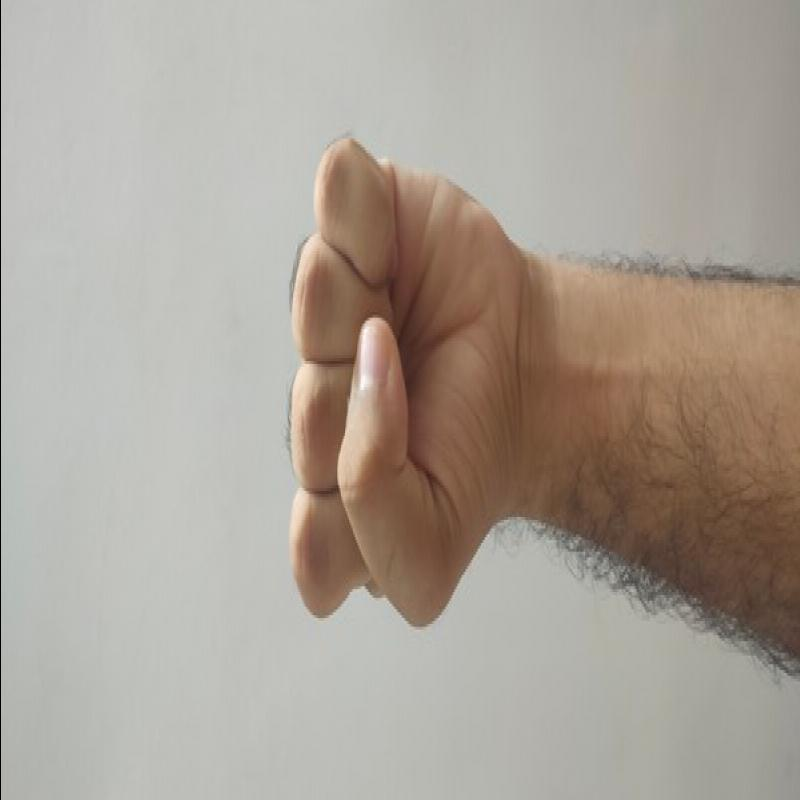Mushti: (260, 129, 530, 638)
